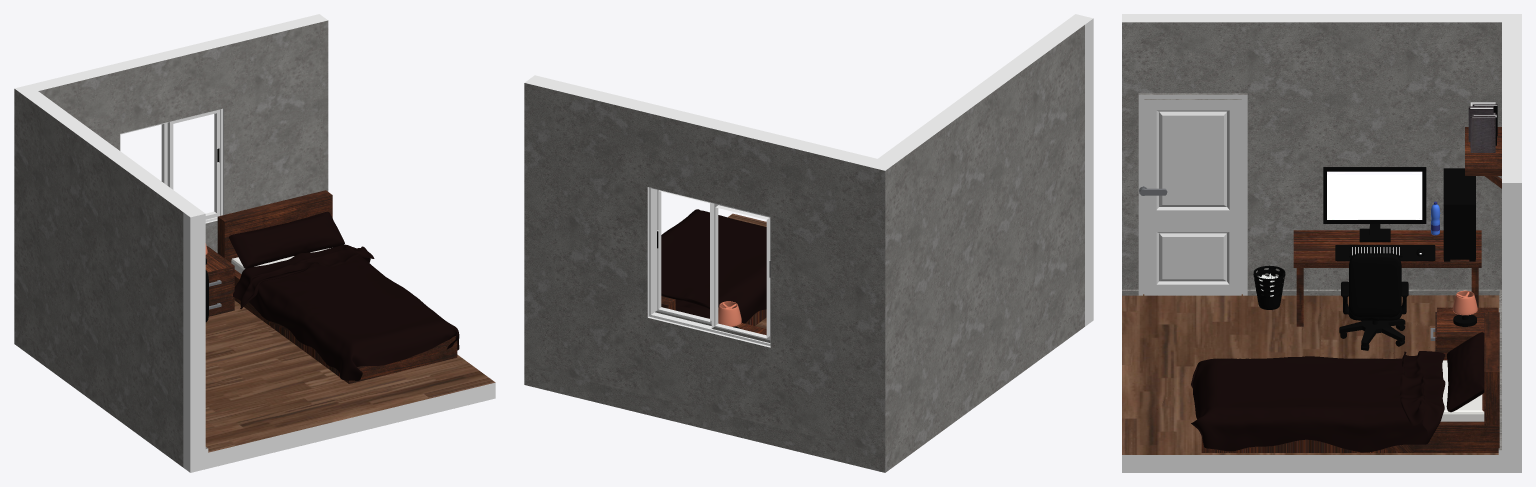
The model's file is room-optimized.glb.
3 views of the same model, side by side, from view 1: azimuth 30°, elevation 25°; view 2: azimuth 150°, elevation 25°; view 3: azimuth 270°, elevation 25° (orthographic). The views are drawn at different scales.
Visible parts, largest first — view 1: Object_4, Object_6, Object_5, Object_16; view 2: Object_4, Object_6; view 3: Object_6, Object_4, Object_5, Object_16, Object_34, Object_55.
Part boxes in pixels (<box>): Object_4: <box>14,20,328,467</box>; Object_6: <box>14,14,495,472</box>; Object_5: <box>205,300,495,452</box>; Object_16: <box>205,190,457,383</box>; Object_4: <box>524,25,1084,472</box>; Object_6: <box>524,14,1093,347</box>; Object_6: <box>1122,14,1521,472</box>; Object_4: <box>1122,22,1501,450</box>; Object_5: <box>1122,294,1499,454</box>; Object_16: <box>1201,127,1501,452</box>; Object_34: <box>1327,171,1422,219</box>; Object_55: <box>1468,104,1497,152</box>.
Size of the model in its own units: 9.95 by 7.71 by 9.64.
Materials: 9 (9 with a texture image).
